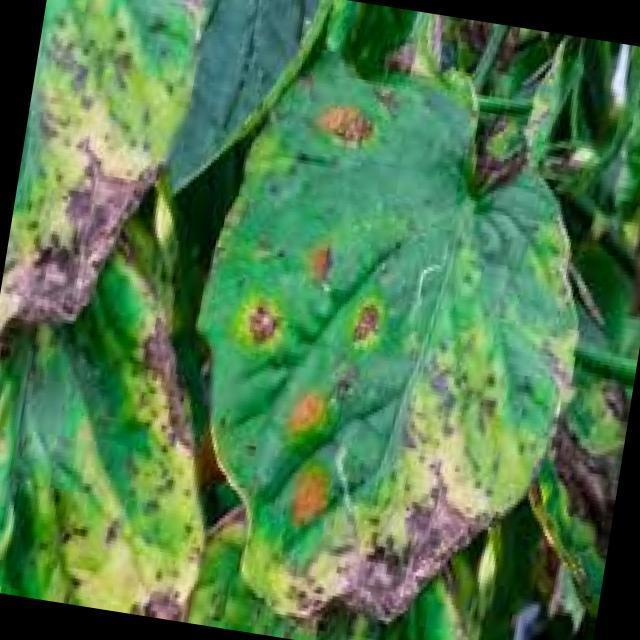Septoria: (188, 72, 579, 640), (0, 0, 187, 355), (65, 304, 243, 624)
